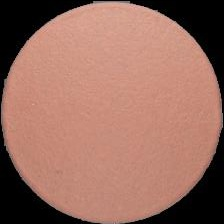66116-412: (0, 0, 224, 224)
